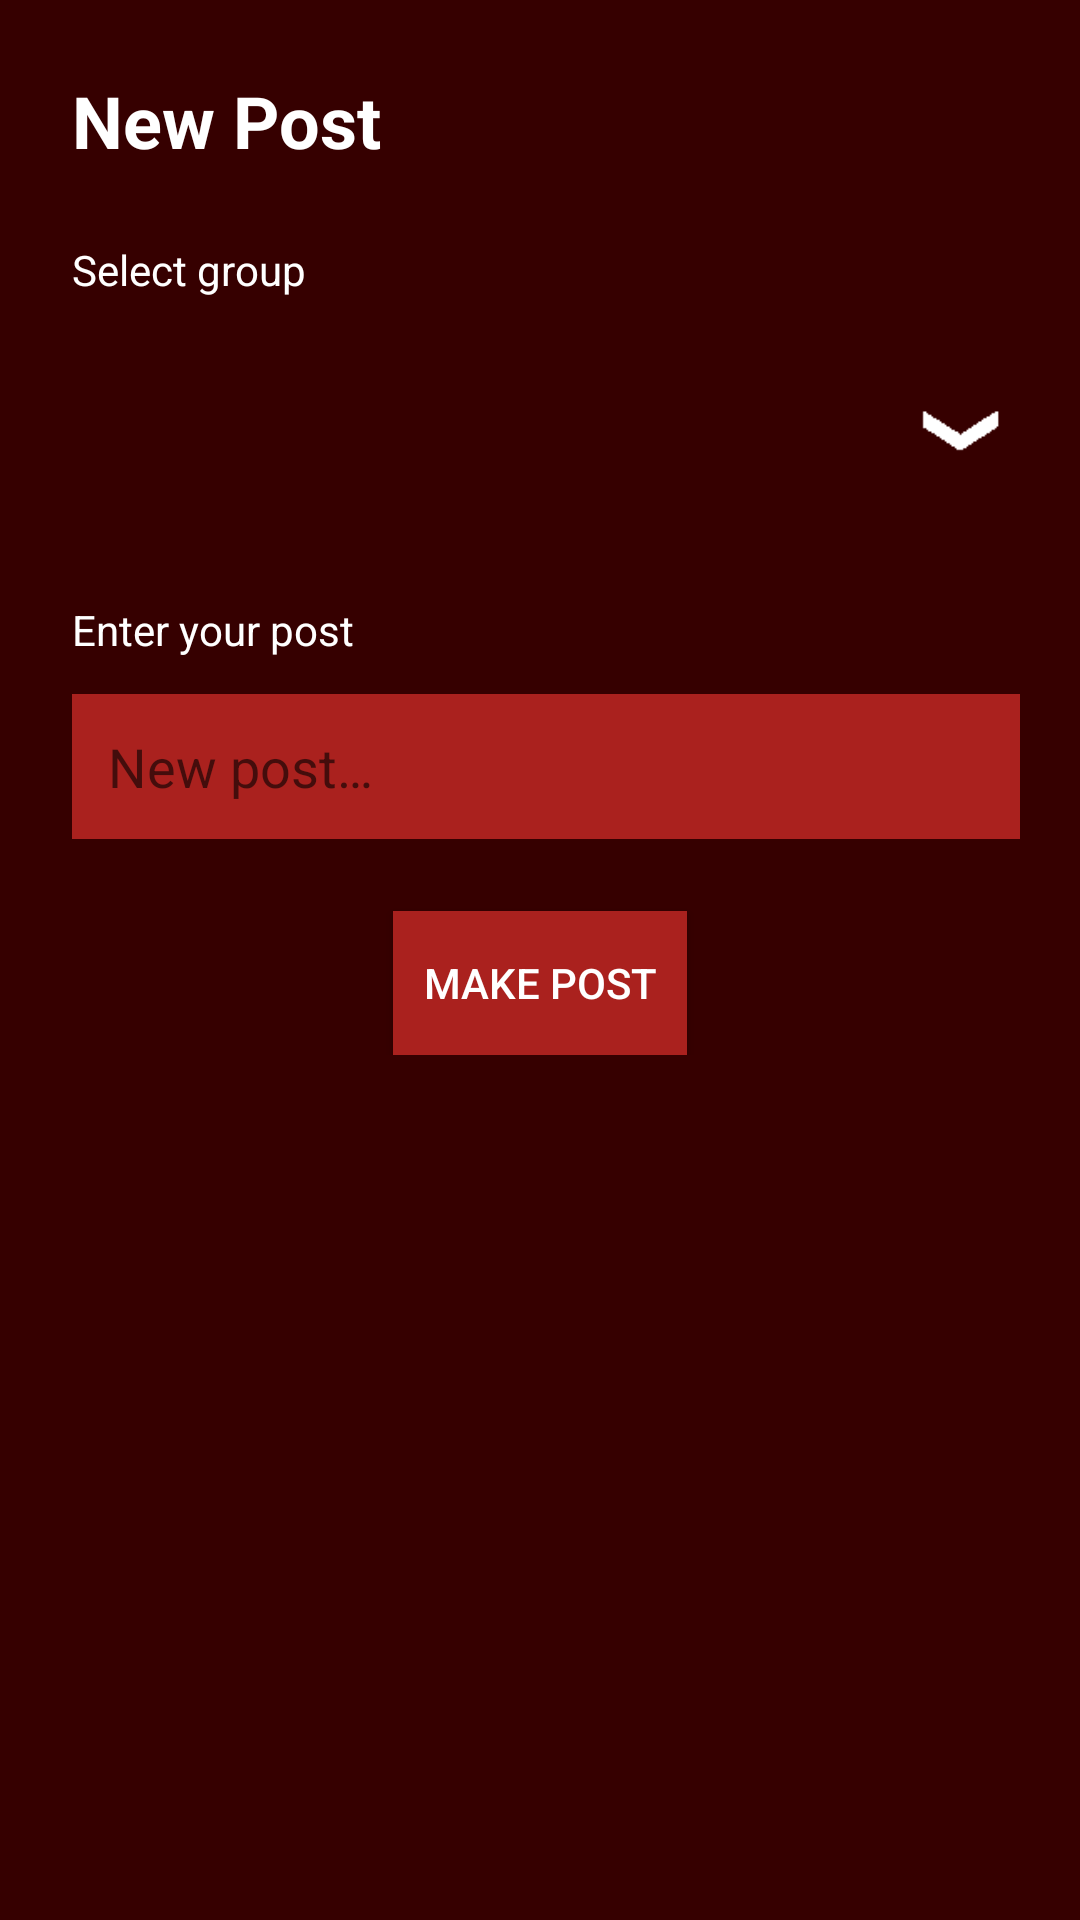

Icon bounding boxes for this 1080*1920 phone screenshot, format (x1, y1, x2, y2):
Dropdown arrow for the group selection list: (922, 411, 999, 451)
